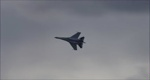maybay_muctieu: (56, 33, 85, 53)
